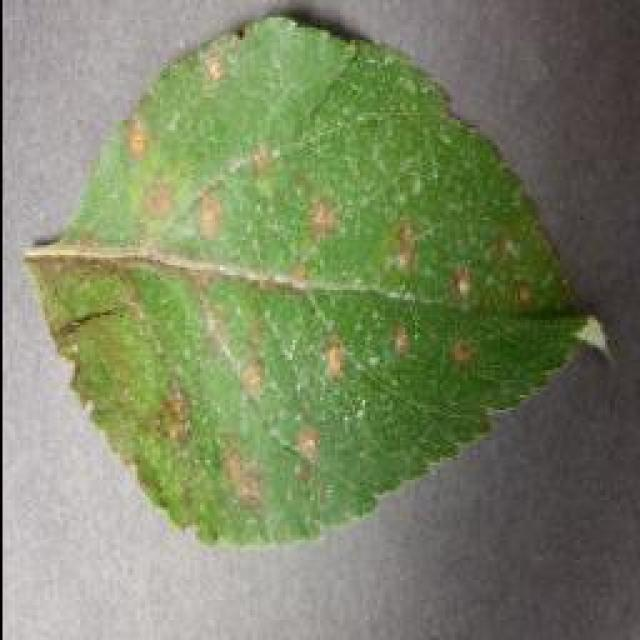apple scab disease: (20, 12, 595, 548)
